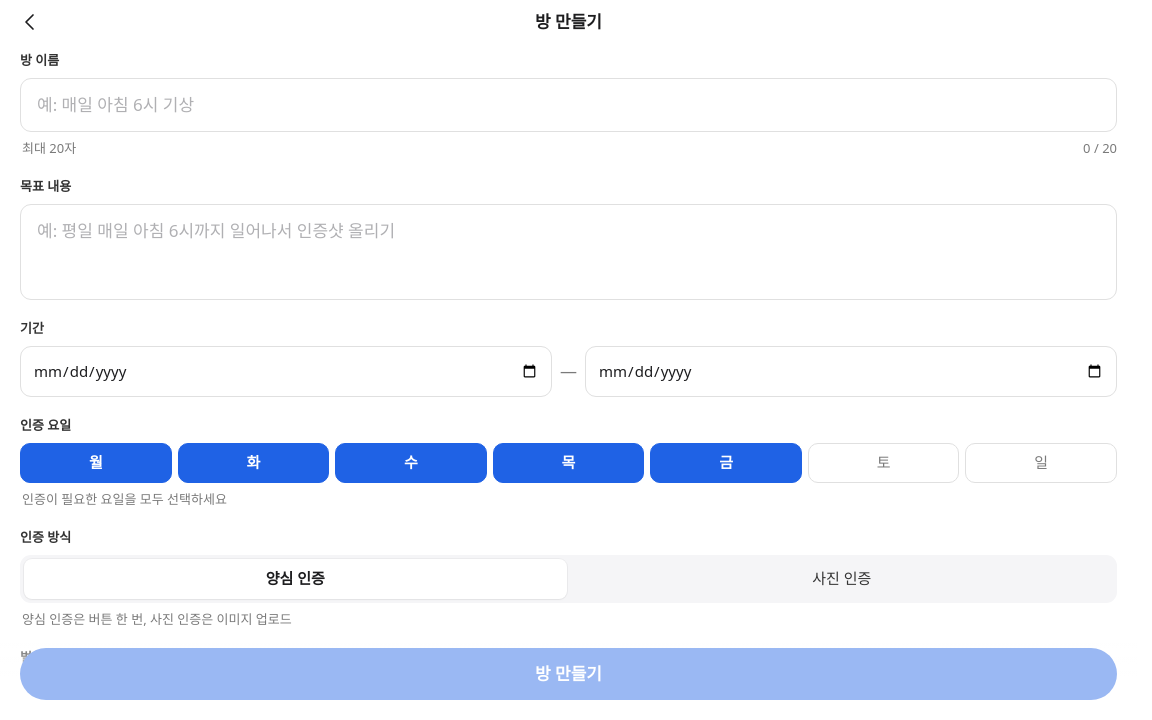
Test: RoomNewPage › 필수값을 모두 채우면 제출 버튼이 활성된다
Type "아침 6시 기상" into the field labelled "방 이름" at [568, 105], box x1=20 y1=78 x2=1117 y2=132
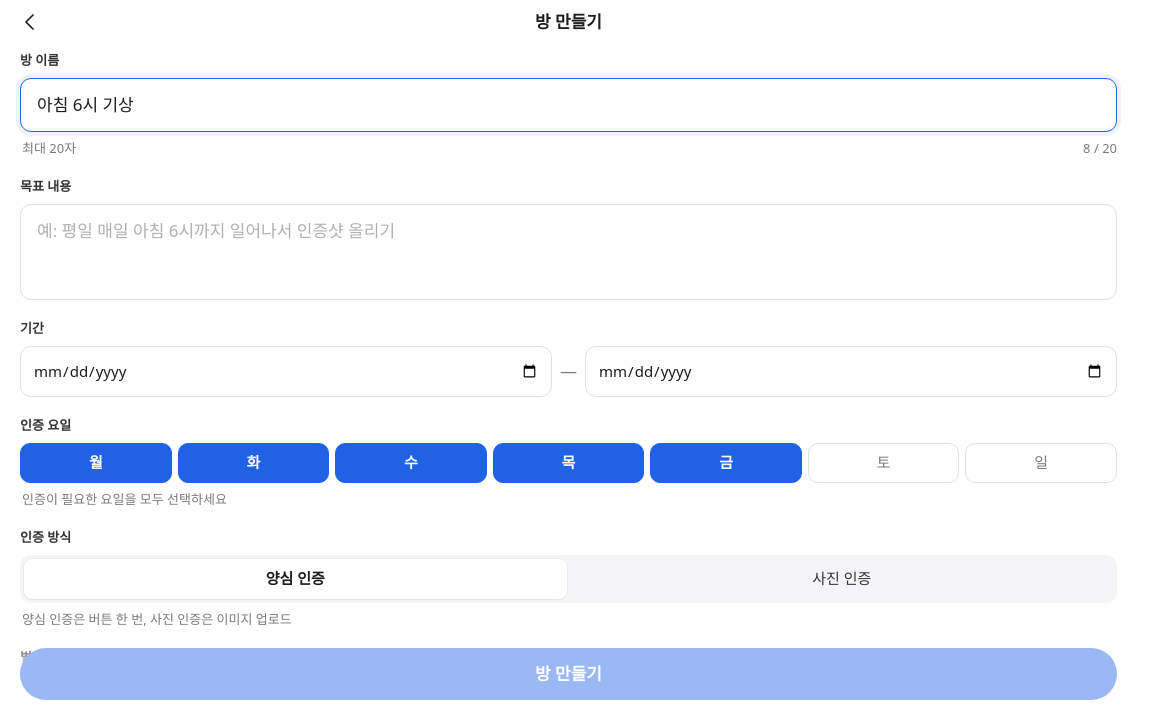
Type "평일 6시 기상 인증" into the text box labelled "목표 내용" at [568, 252], box x1=20 y1=204 x2=1117 y2=300
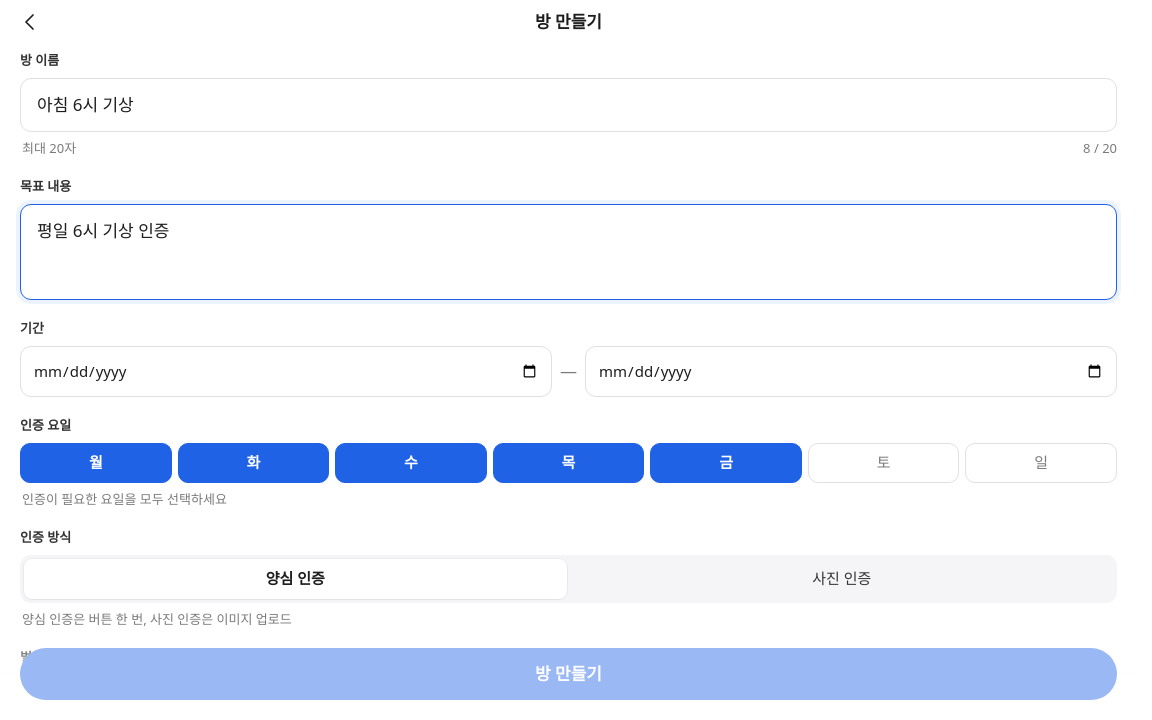
Type "2026-05-27" into the date field named "시작일" at [286, 371], box x1=20 y1=346 x2=552 y2=397
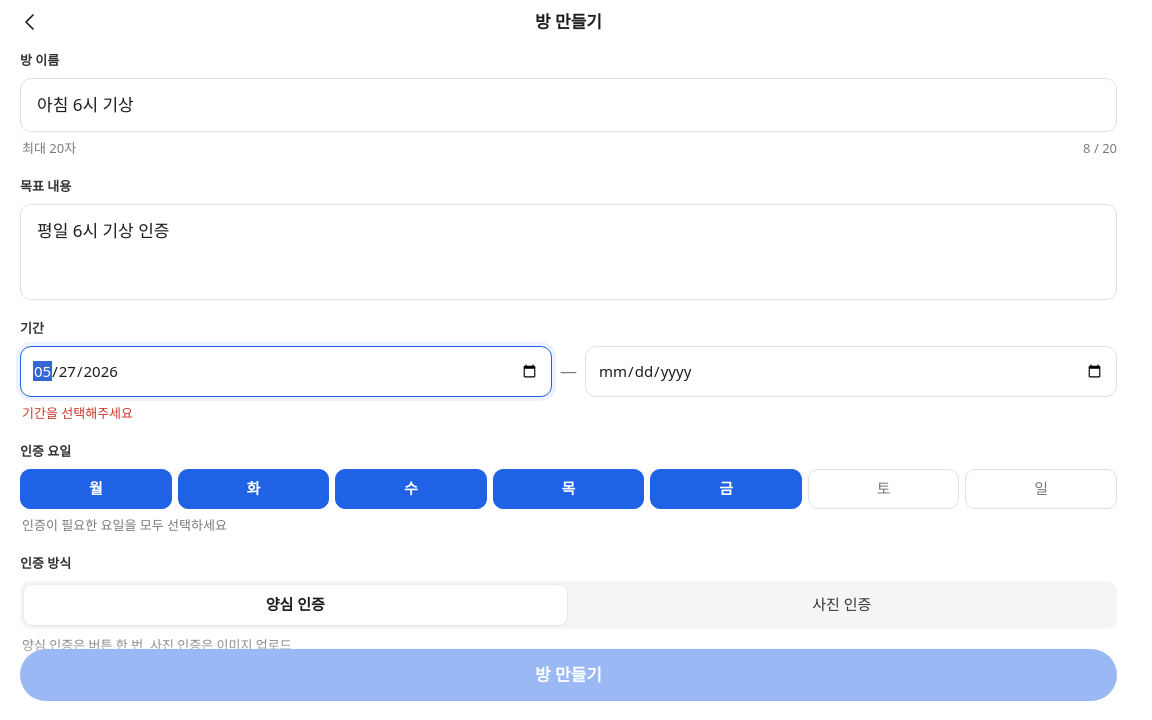
Type "2026-06-27" into the date field named "종료일" at [851, 371], box x1=585 y1=346 x2=1117 y2=397
(page scrolled)
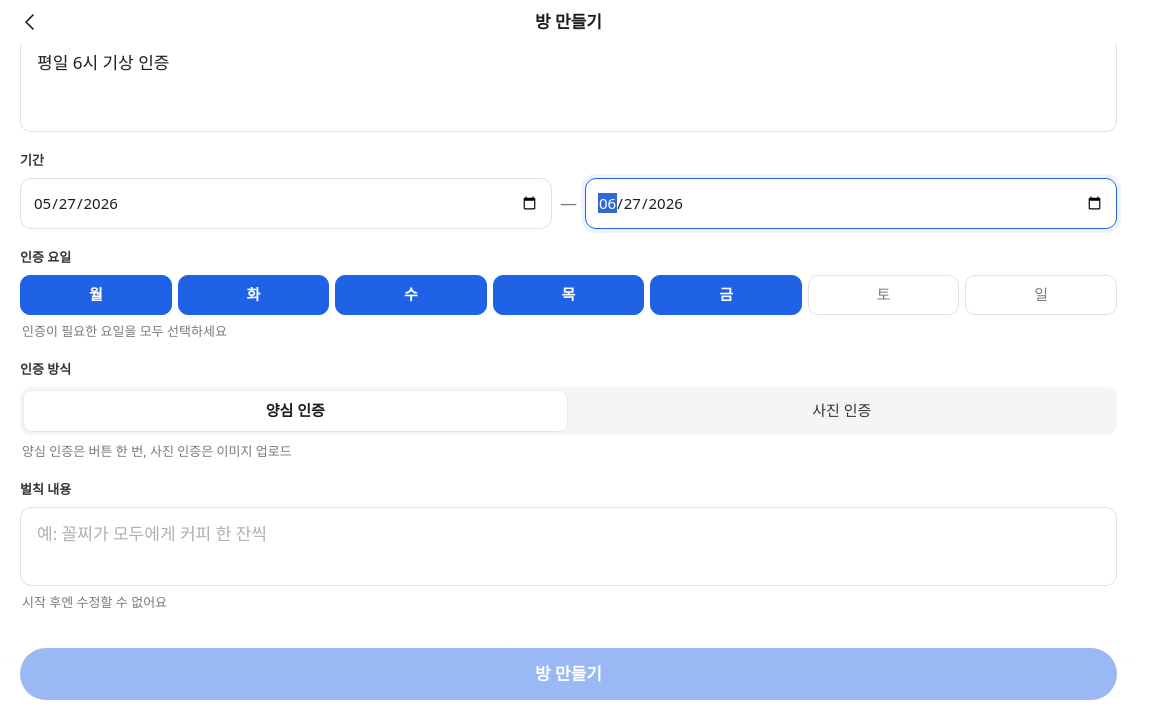
Type "커피 쏘기" into the text box labelled "벌칙 내용" at [568, 546], box x1=20 y1=507 x2=1117 y2=586
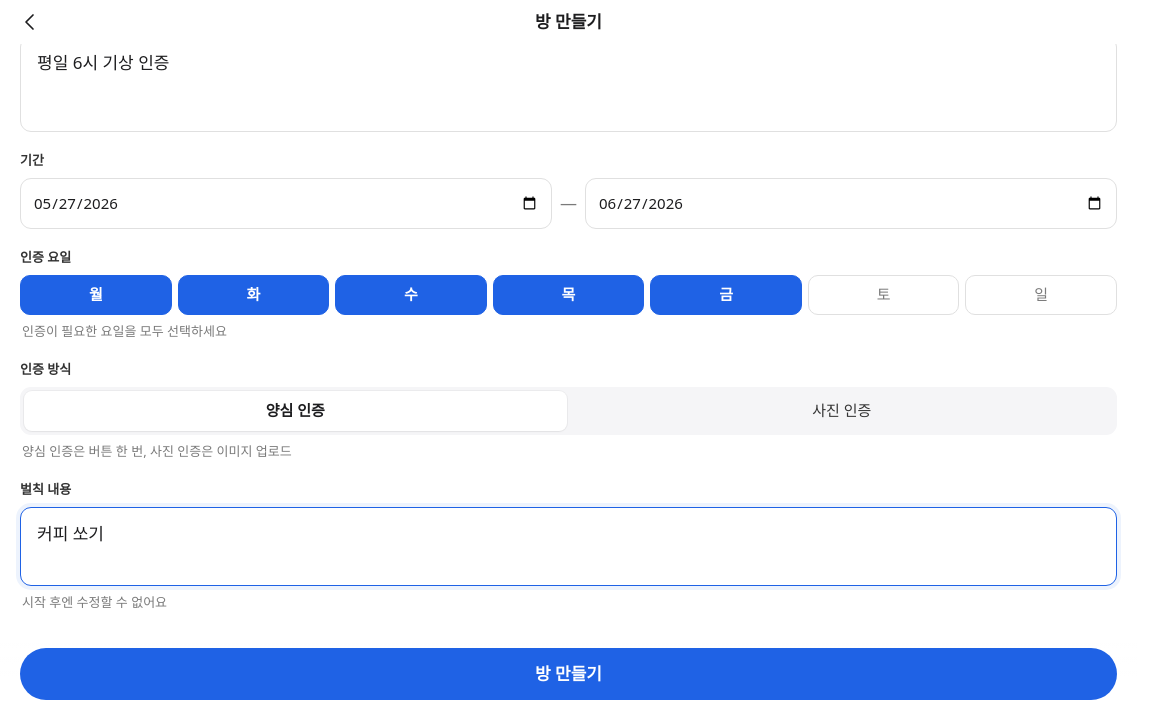
Now the button "방 만들기" is enabled, box x1=20 y1=648 x2=1117 y2=700
